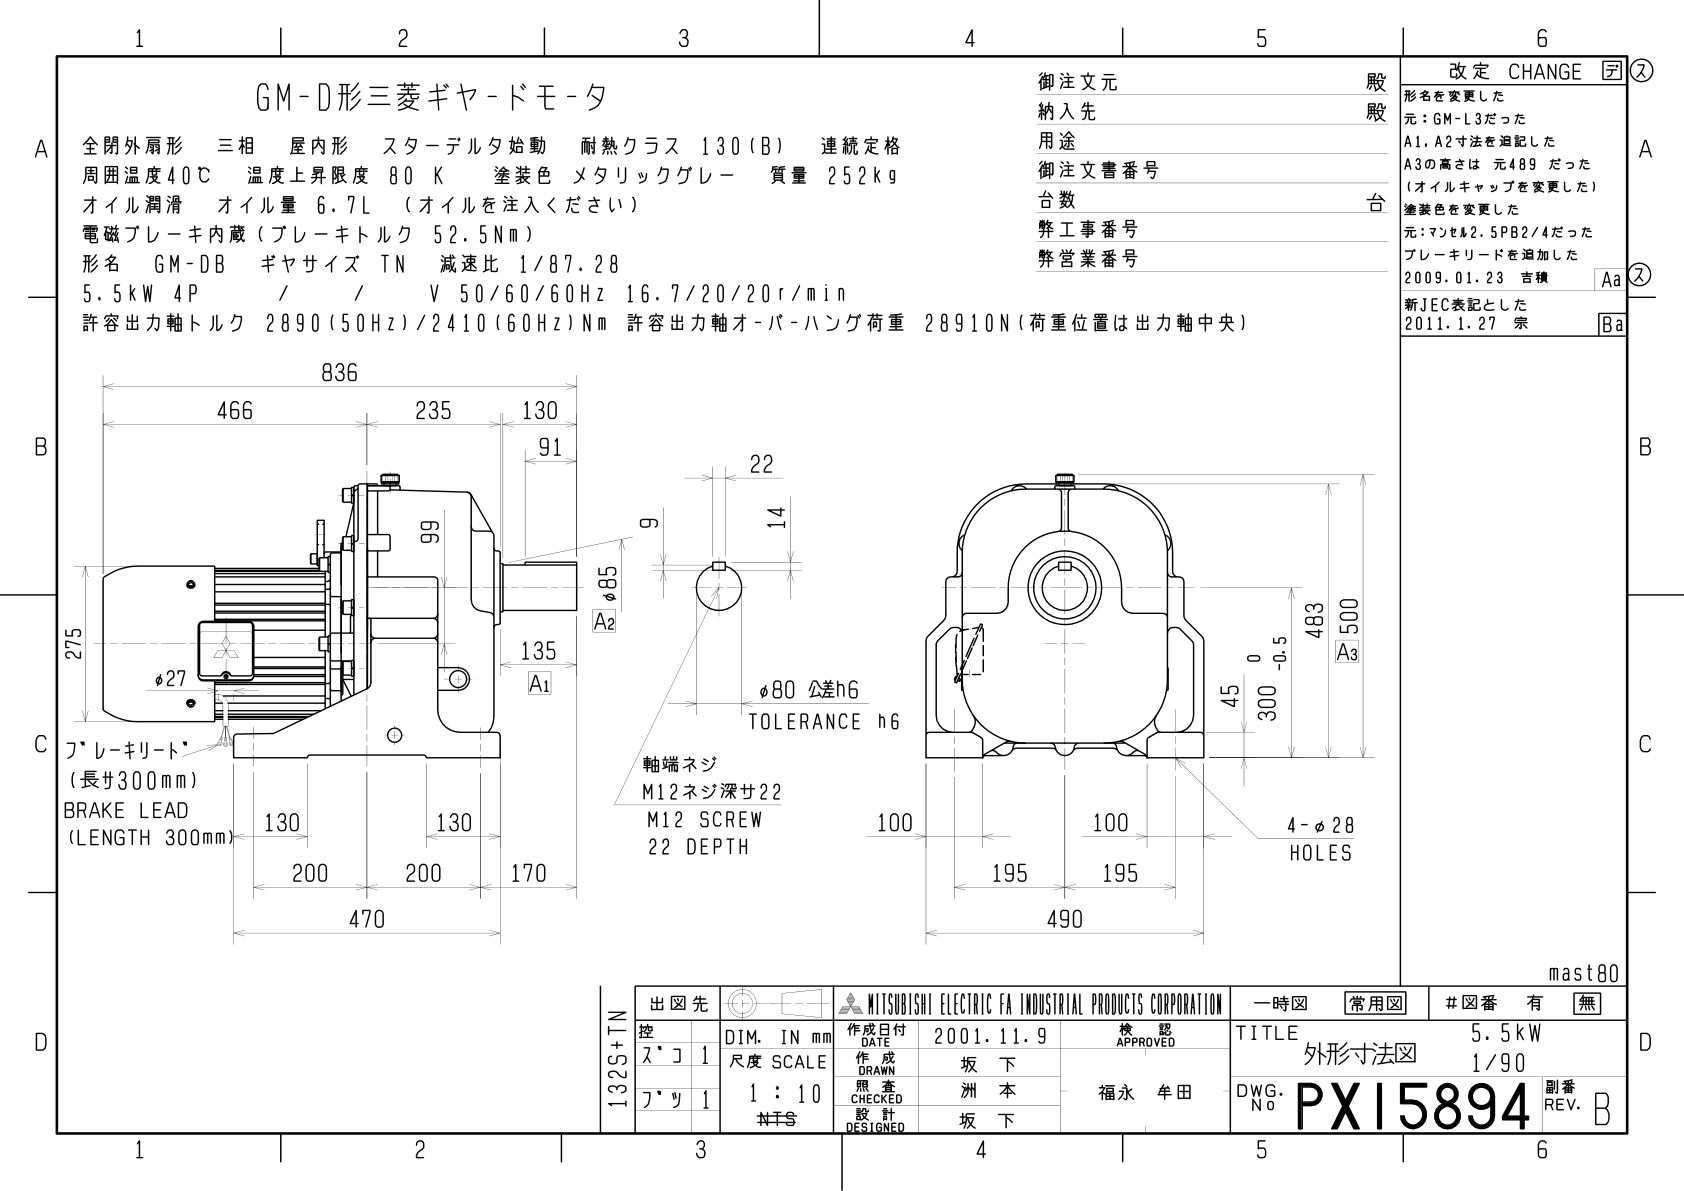GM_D_屋内＿三相_脚: (55, 347, 1393, 973)
